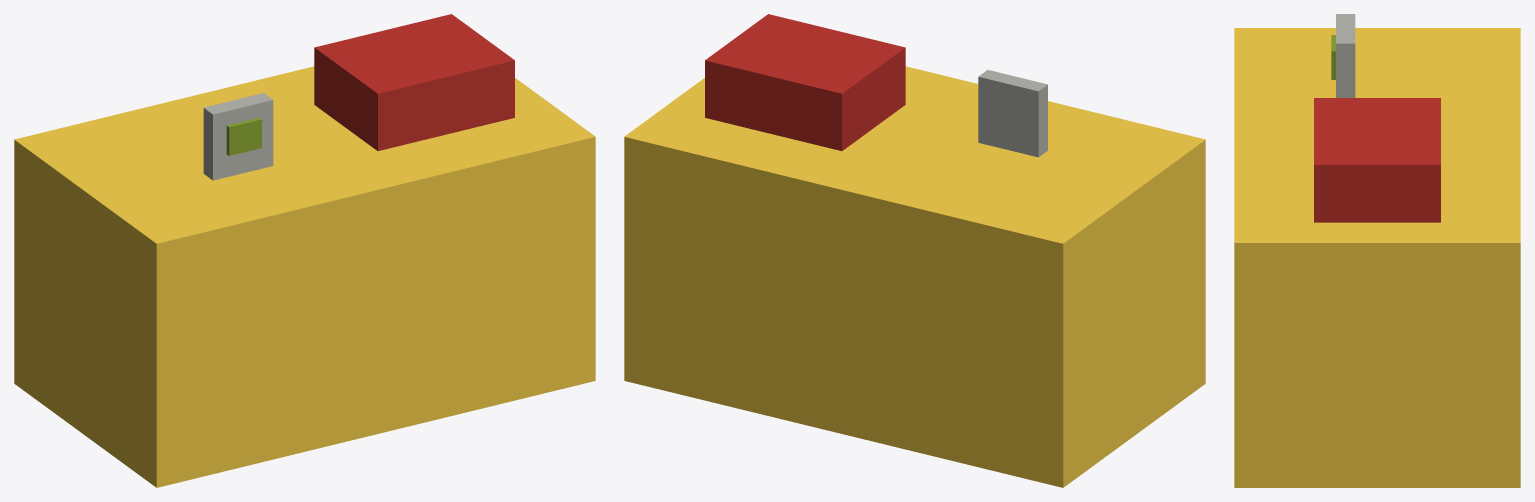
Rendered from toy_demo.glb.
3 views of the same model, side by side, from view 1: azimuth 30°, elevation 25°; view 2: azimuth 150°, elevation 25°; view 3: azimuth 270°, elevation 25° (orthographic).
Visible parts, largest first — view 1: Box1, Box4, Box2, Box3; view 2: Box1, Box4, Box2; view 3: Box1, Box4, Box2.
Boxes of the visible parts, <box> form: Box1: <box>14,66,595,487</box>; Box4: <box>314,14,514,150</box>; Box2: <box>203,93,273,180</box>; Box3: <box>226,117,261,155</box>; Box1: <box>624,66,1205,487</box>; Box4: <box>705,14,905,150</box>; Box2: <box>978,70,1047,157</box>; Box1: <box>1234,28,1520,487</box>; Box4: <box>1314,98,1440,222</box>; Box2: <box>1336,14,1355,97</box>.
Size of the model in its own units: 1.6 by 1.08 by 0.9.
